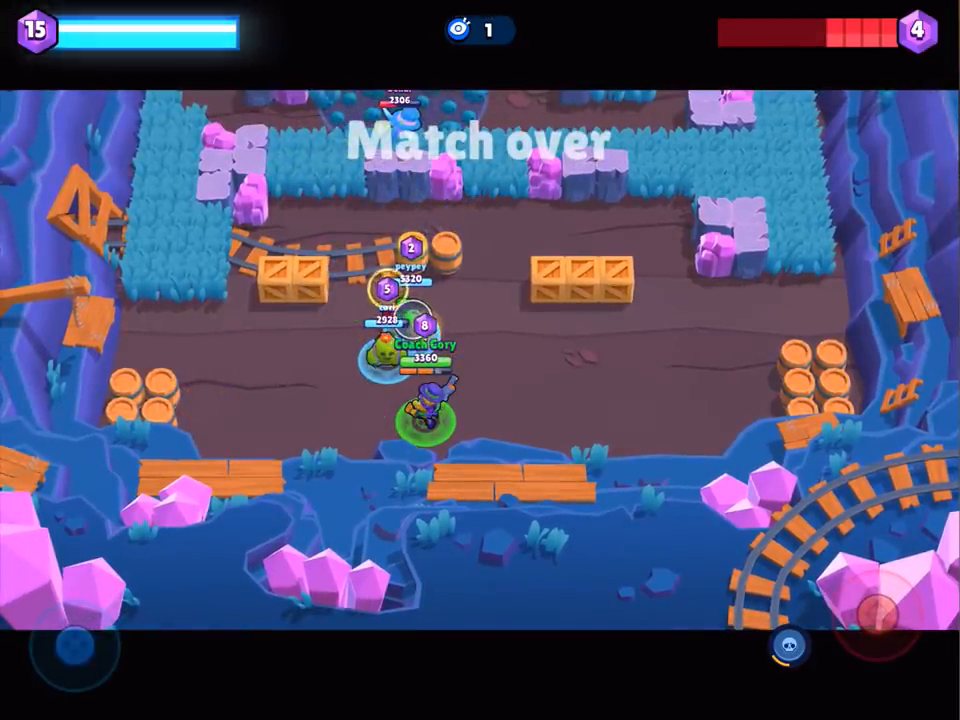move_stick: (55, 618, 90, 659)
red: (375, 88, 428, 157)
